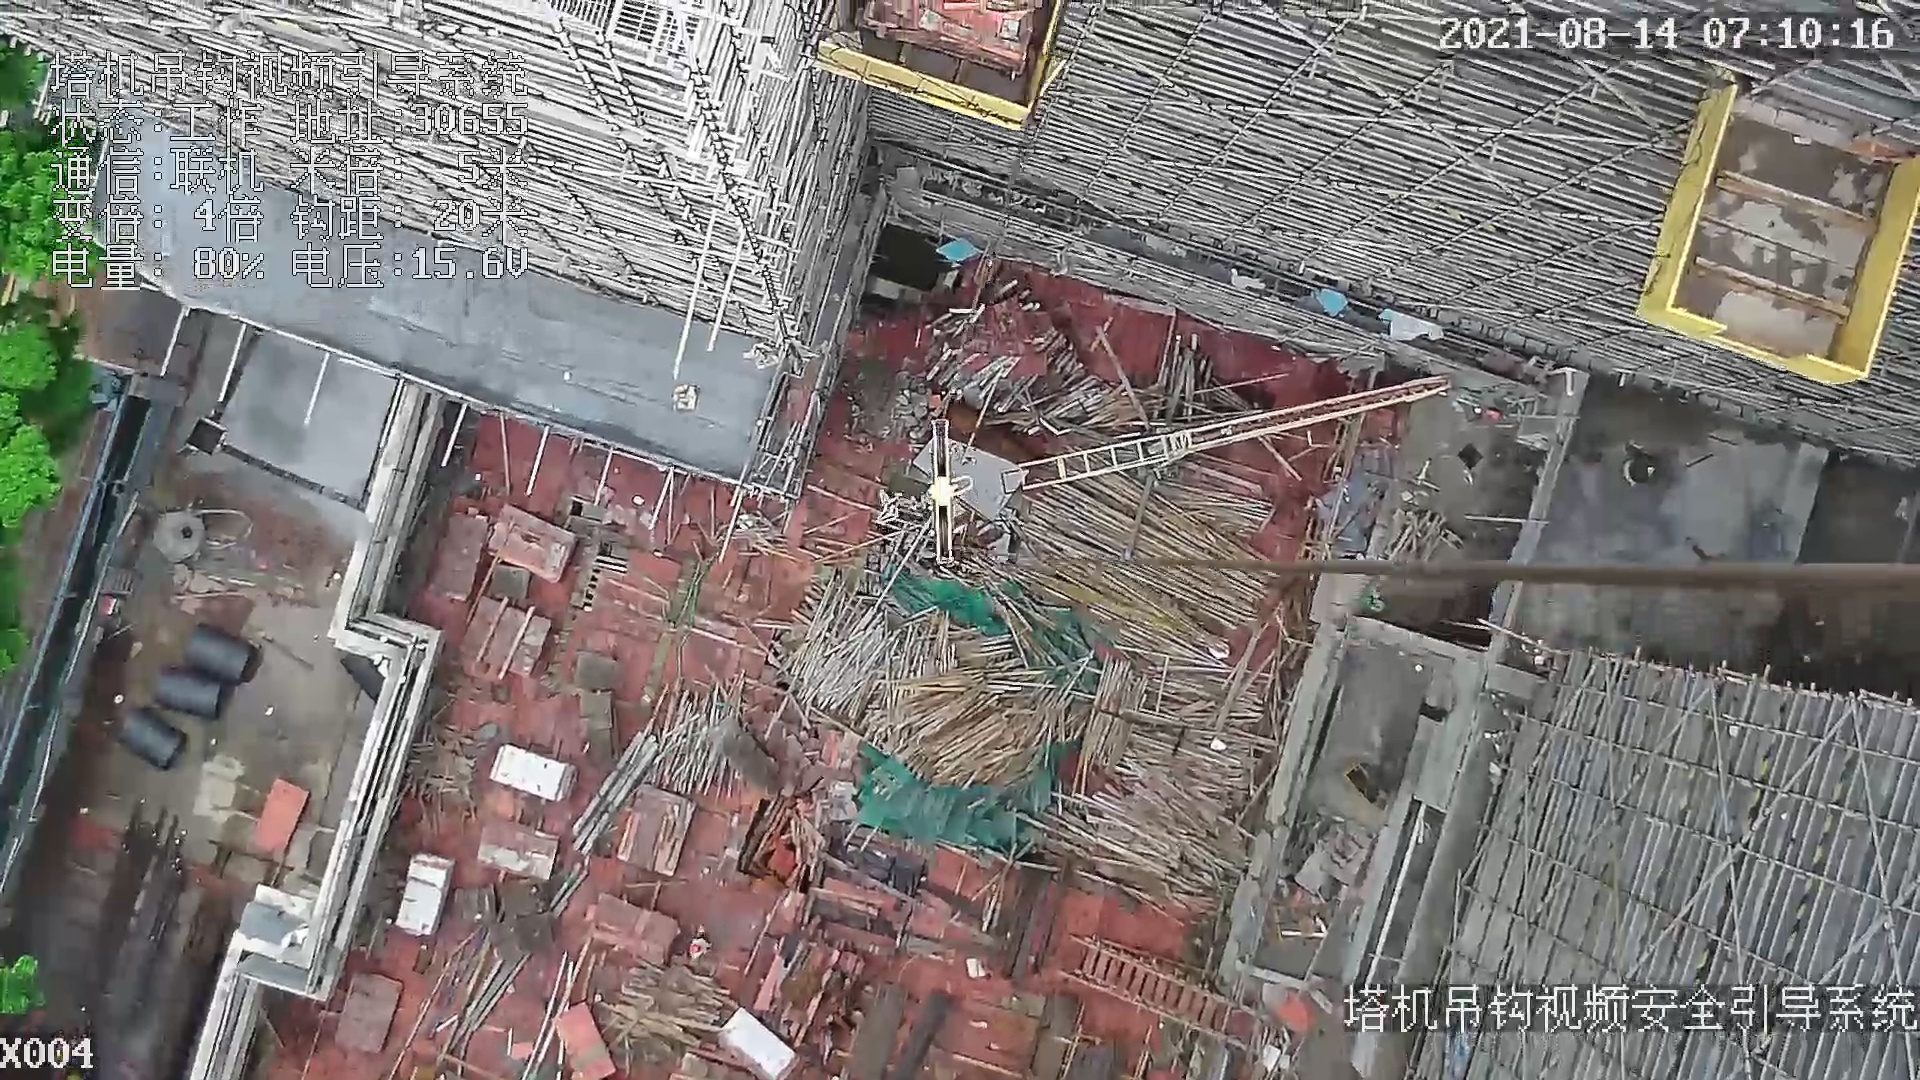helmet: (690, 943, 702, 954)
hook: (922, 415, 974, 573)
person: (686, 922, 715, 959)
